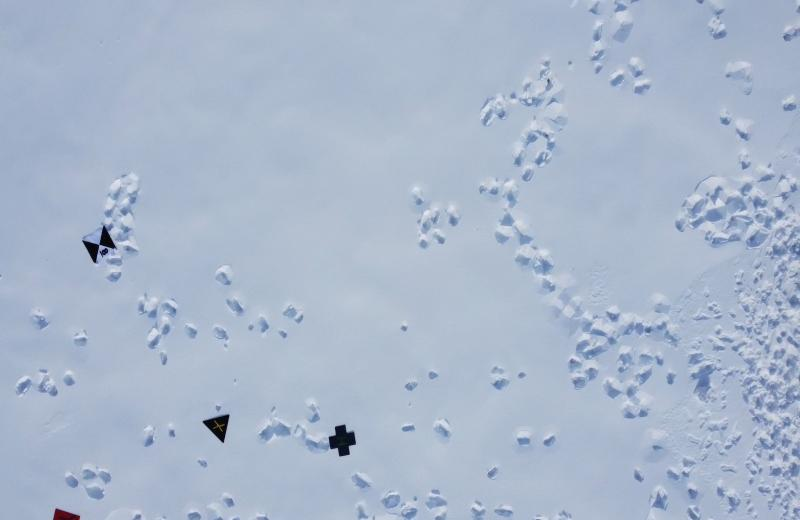Cross: (328, 423, 358, 458)
Rectangle: (52, 503, 81, 520)
Triangle: (203, 412, 234, 444)
